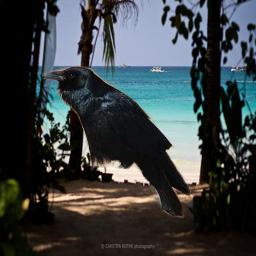Crow: (42, 66, 191, 218)
